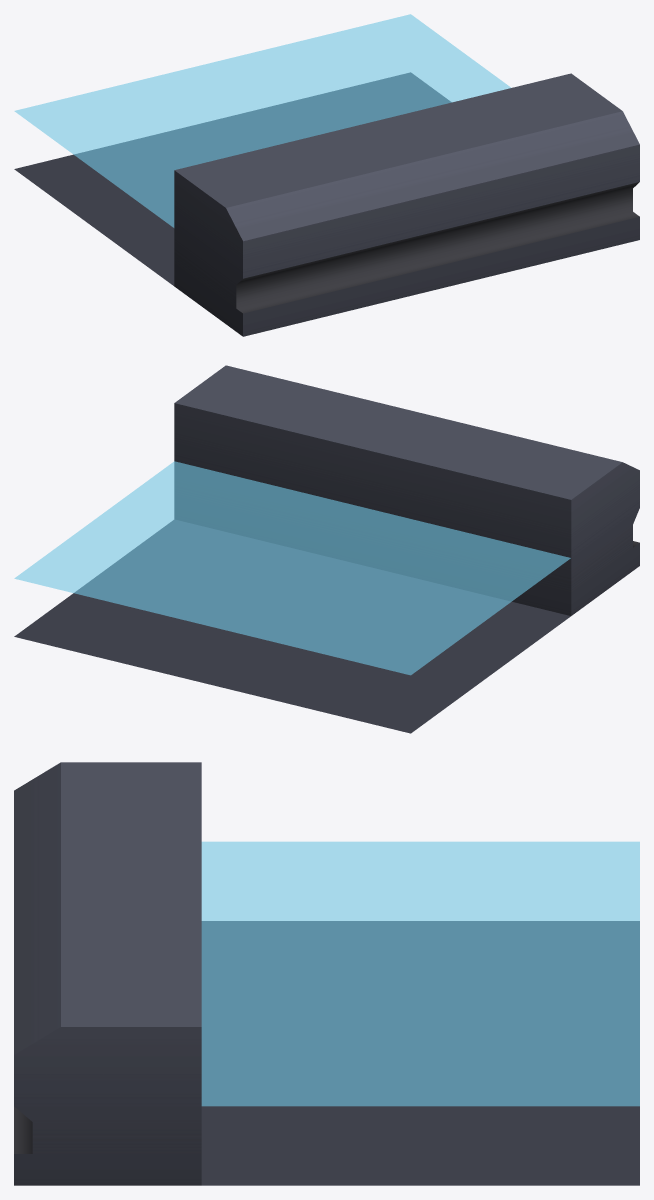
File: fountain-edge.glb
The picture shows the model from 3 angles, top to bottom: view 1: azimuth 30°, elevation 25°; view 2: azimuth 150°, elevation 25°; view 3: azimuth 270°, elevation 25°; orthographic projection. The views are drawn at different scales.
Parts seen in each view (by area): view 1: fountain-edge, (_ignore); view 2: fountain-edge, (_ignore); view 3: fountain-edge, (_ignore).
Part boxes in pixels (box(x1,y1,x2,y2)): fountain-edge: box(14, 72, 639, 336); (_ignore): box(14, 14, 510, 227); fountain-edge: box(14, 365, 639, 733); (_ignore): box(14, 461, 570, 675); fountain-edge: box(14, 762, 639, 1185); (_ignore): box(201, 841, 639, 1106).
Bounding box in the file's own units: 1 × 0.28 × 1.
Materials: 2 (1 with a texture image).
